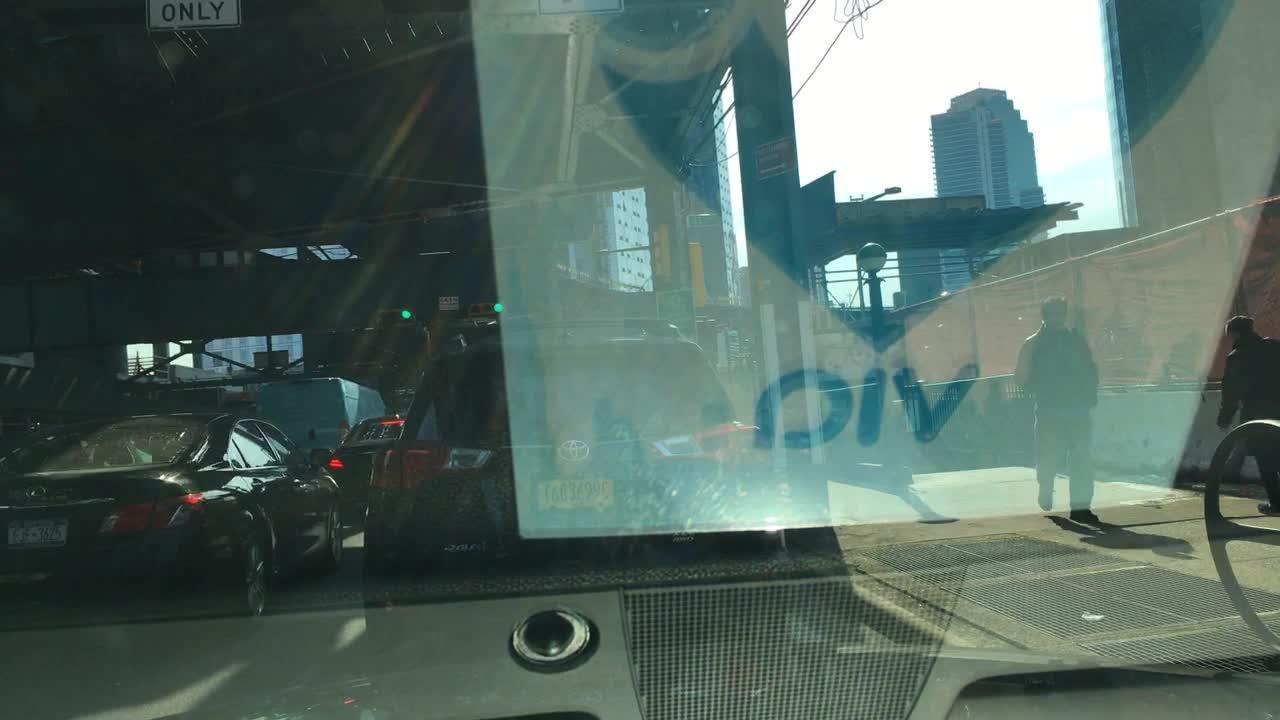Toyota: (553, 438, 595, 465)
lexus: (23, 481, 50, 503)
